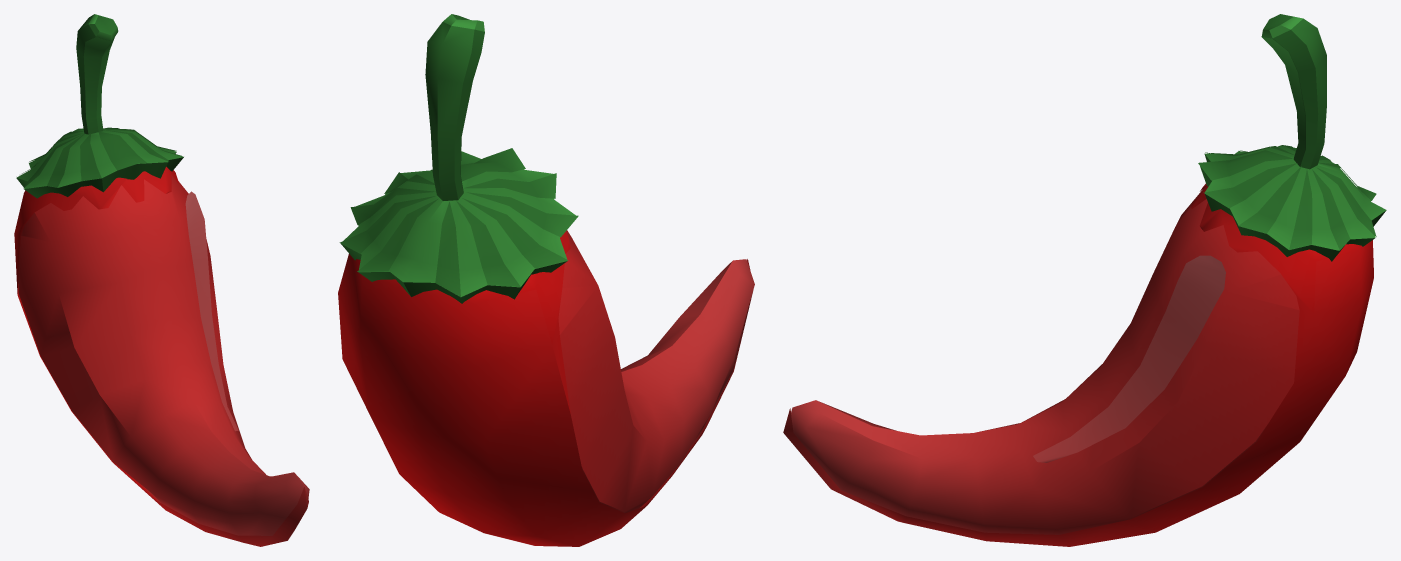
The model's file is ChiliPepper.fbx.
3 renders of one model, left to right at view 1: azimuth 30°, elevation 25°; view 2: azimuth 150°, elevation 25°; view 3: azimuth 270°, elevation 25°, orthographic. The views are drawn at different scales.
Parts seen in each view (by area): view 1: Chili Pepper; view 2: Chili Pepper; view 3: Chili Pepper.
Boxes of the visible parts, x1=… form: Chili Pepper: x1=14, y1=14, x2=309, y2=546; Chili Pepper: x1=338, y1=14, x2=754, y2=546; Chili Pepper: x1=783, y1=14, x2=1386, y2=546.
Bounding box in the file's own units: 1.15 × 2.92 × 3.05.
